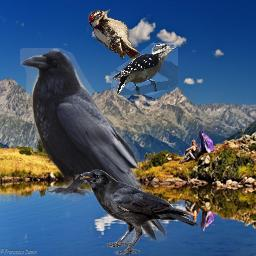Crow: (20, 48, 169, 244), (80, 169, 198, 255)
Woodpecker: (111, 43, 178, 95), (88, 9, 140, 62)
